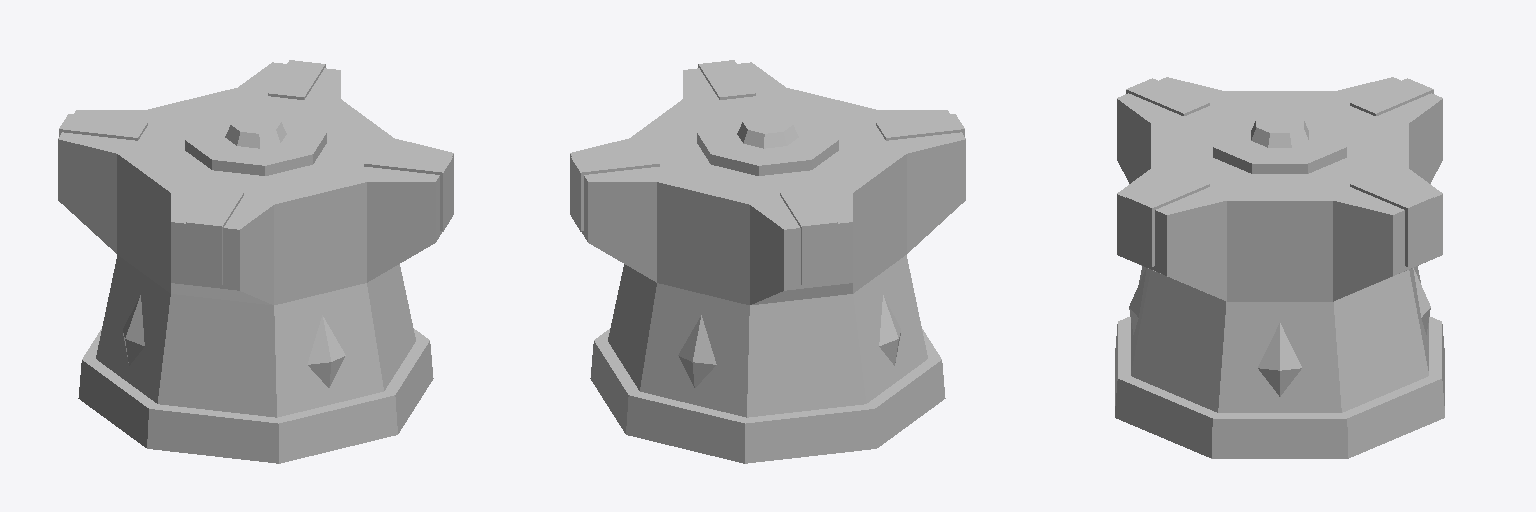
The model's file is MageTower_Lvl1.obj.
3 renders of one model, left to right at view 1: azimuth 30°, elevation 25°; view 2: azimuth 150°, elevation 25°; view 3: azimuth 270°, elevation 25°, orthographic.
Visible parts, largest first — view 1: TB_MageTower_Lvl1; view 2: TB_MageTower_Lvl1; view 3: TB_MageTower_Lvl1.
Boxes of the visible parts, x1=… form: TB_MageTower_Lvl1: x1=58, y1=60, x2=453, y2=463; TB_MageTower_Lvl1: x1=570, y1=60, x2=965, y2=463; TB_MageTower_Lvl1: x1=1115, y1=77, x2=1444, y2=458.
Size of the model in its own units: 6.18 by 5.47 by 6.18.